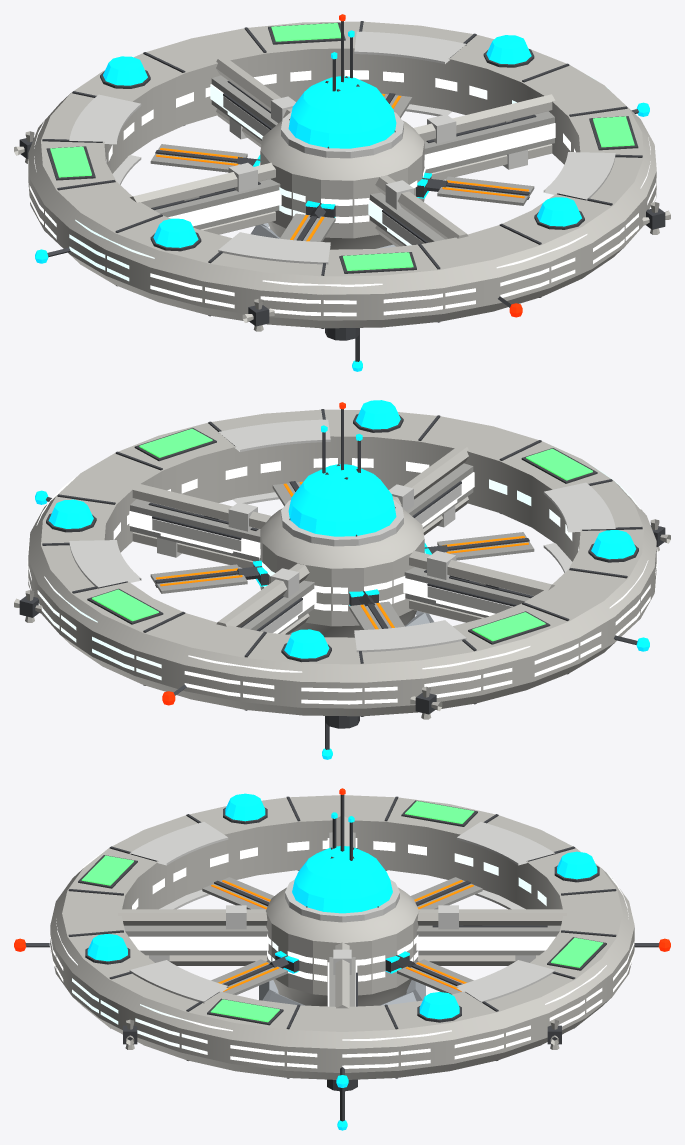
Rendered from colony.glb.
3 renders of one model, top to bottom at view 1: azimuth 30°, elevation 25°; view 2: azimuth 150°, elevation 25°; view 3: azimuth 270°, elevation 25°, orthographic. The views are drawn at different scales.
Visible parts, largest first — view 1: colony; view 2: colony; view 3: colony.
Boxes of the visible parts, x1,y1,x2,y2 form: colony: [14, 14, 670, 371]; colony: [14, 400, 670, 759]; colony: [14, 788, 670, 1130].
Bounding box in the file's own units: 2 × 1.12 × 1.99.
